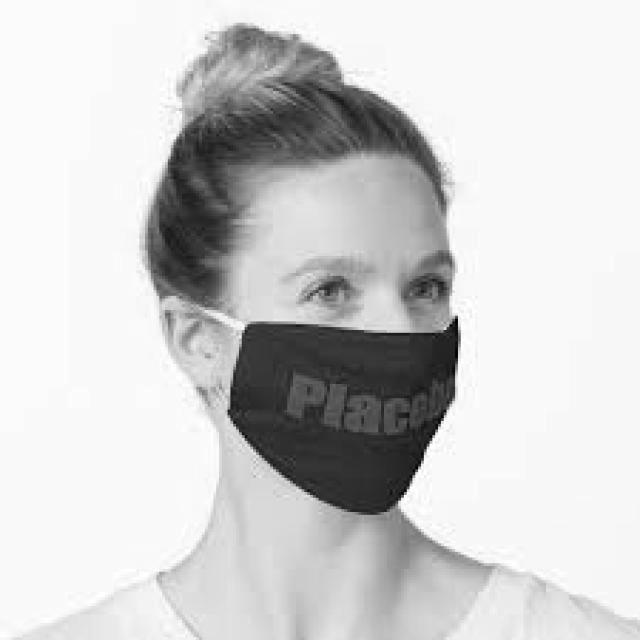fake: (228, 313, 460, 514)
real: (245, 165, 466, 518)
